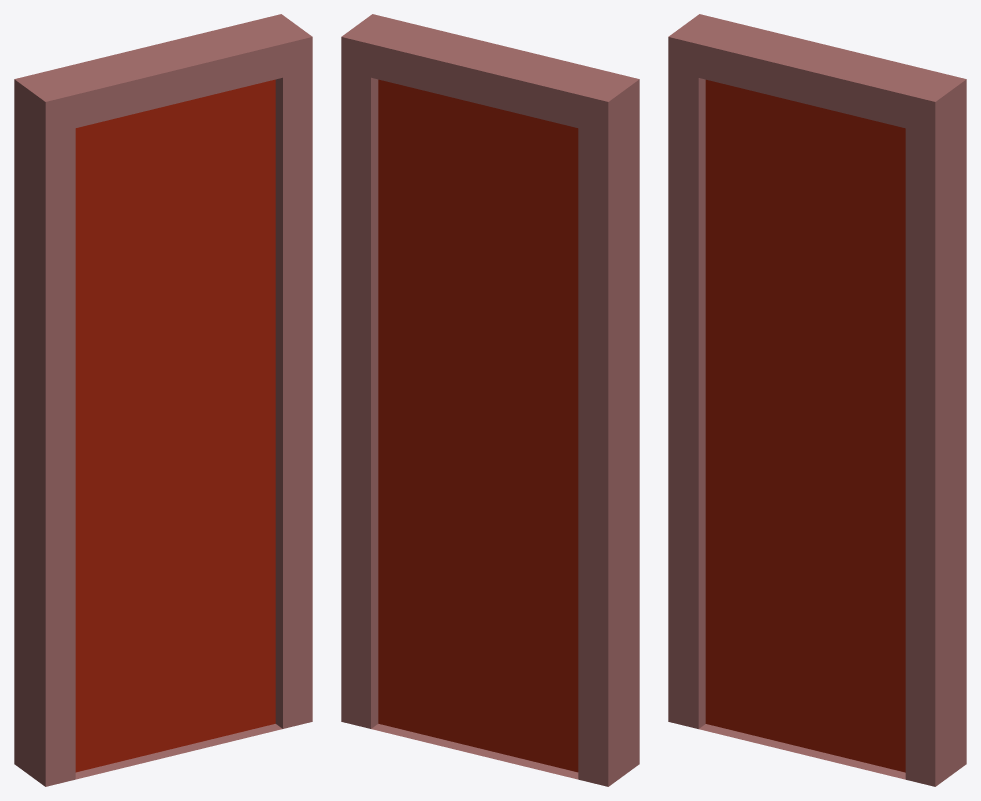
Rendered from Puerta_Pequeña2.fbx.
3 views of the same model, side by side, from view 1: azimuth 30°, elevation 25°; view 2: azimuth 150°, elevation 25°; view 3: azimuth 330°, elevation 25° (orthographic).
Parts seen in each view (by area): view 1: Cube.054, Cube.052; view 2: Cube.054, Cube.052; view 3: Cube.054, Cube.052.
Boxes of the visible parts, x1,y1,x2,y2 form: Cube.054: (75,79,275,772); Cube.052: (14,14,312,786); Cube.054: (378,79,578,772); Cube.052: (341,14,639,786); Cube.054: (705,79,905,772); Cube.052: (668,14,966,786).
Bounding box in the file's own units: 366 × 896 × 73.98.
